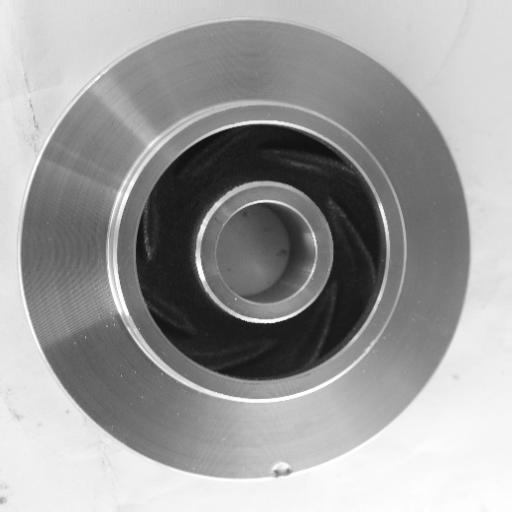crack: (264, 459, 302, 486)
unpolished_casting: (19, 19, 472, 485)
